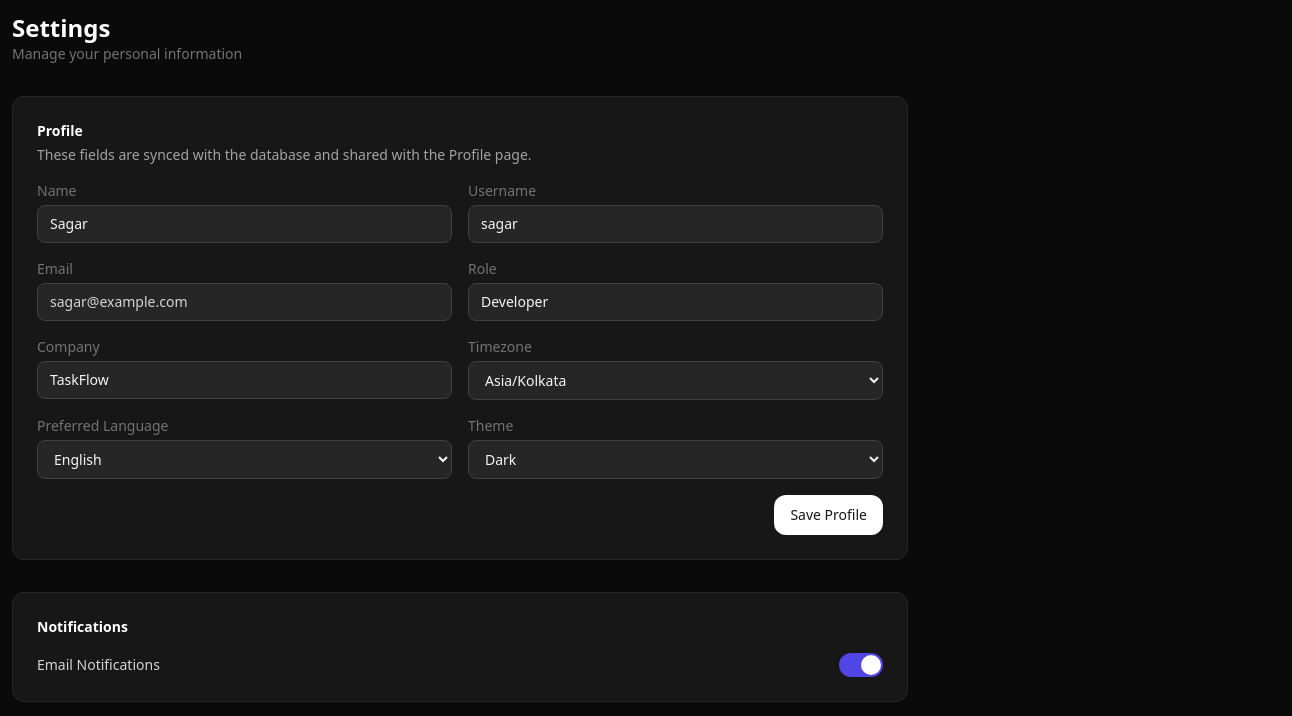
Test: Settings › shows a duplicate username error when the save fails for that reason
The image size is (1292, 716).
Expected: the 1st field showing "Sagar" is shown, [37, 205, 452, 243]
Step 1. Click the button "Save Profile" → (829, 515), box [774, 495, 883, 535]
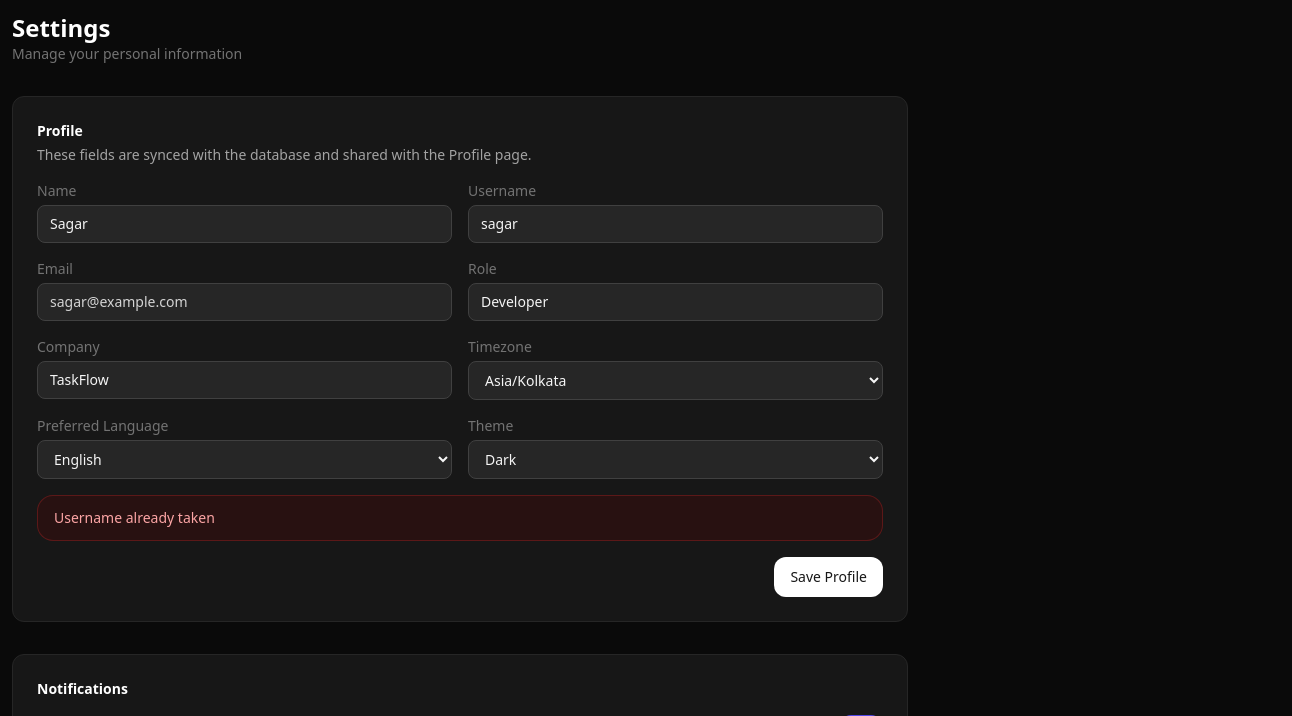
Expected: the text "Username already taken" is shown, [37, 495, 883, 541]
